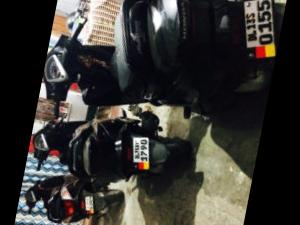plate: (125, 123, 163, 175)
